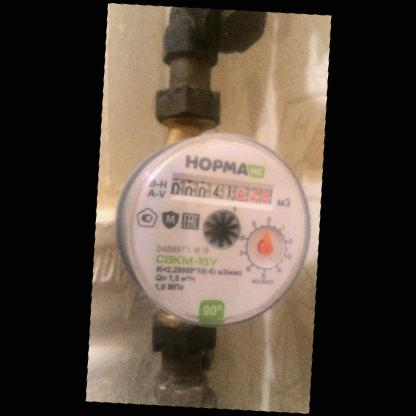digital_screen: (166, 170, 237, 206)
